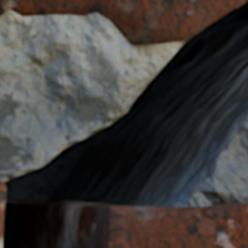brick: (103, 205, 247, 247), (0, 183, 5, 247)
broken_brick: (0, 0, 245, 46)
crack: (2, 0, 247, 247)
